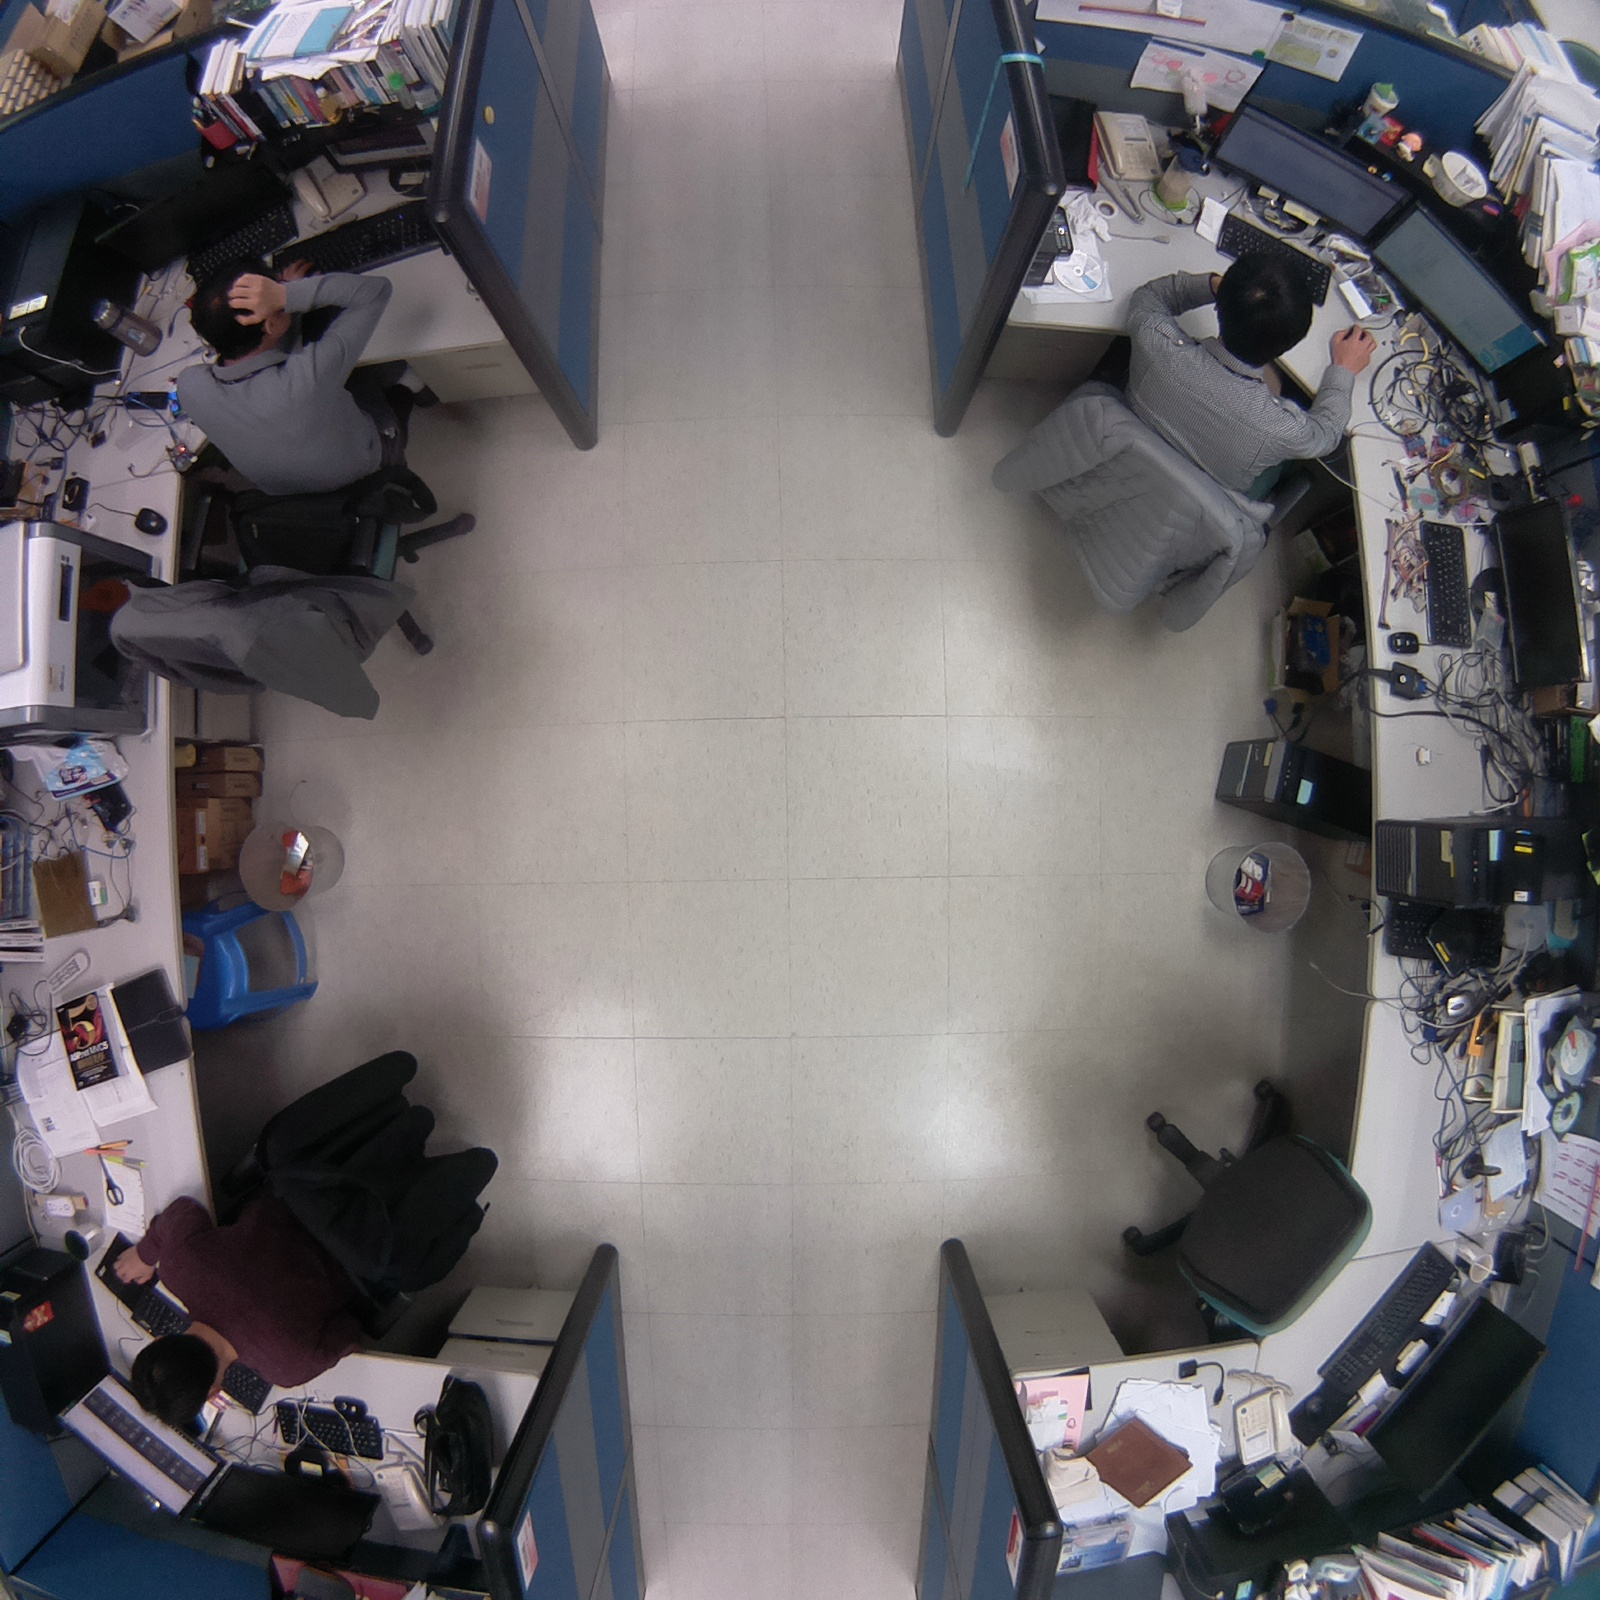chair: (1095, 1055, 1393, 1363)
sitting: (94, 226, 494, 736), (966, 236, 1401, 661), (100, 1029, 513, 1439)
